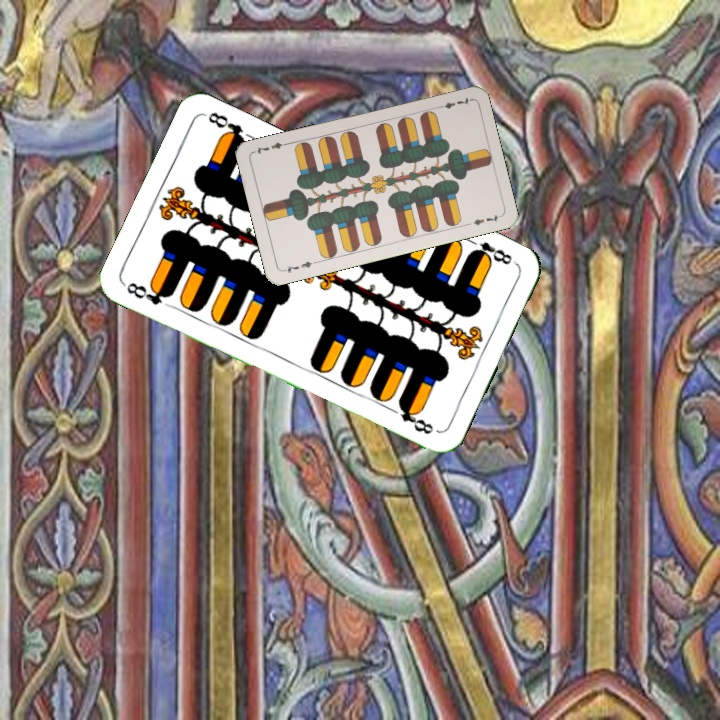E7: (279, 257, 319, 275), (433, 93, 473, 111)
E8: (463, 234, 519, 268), (121, 278, 175, 308)
